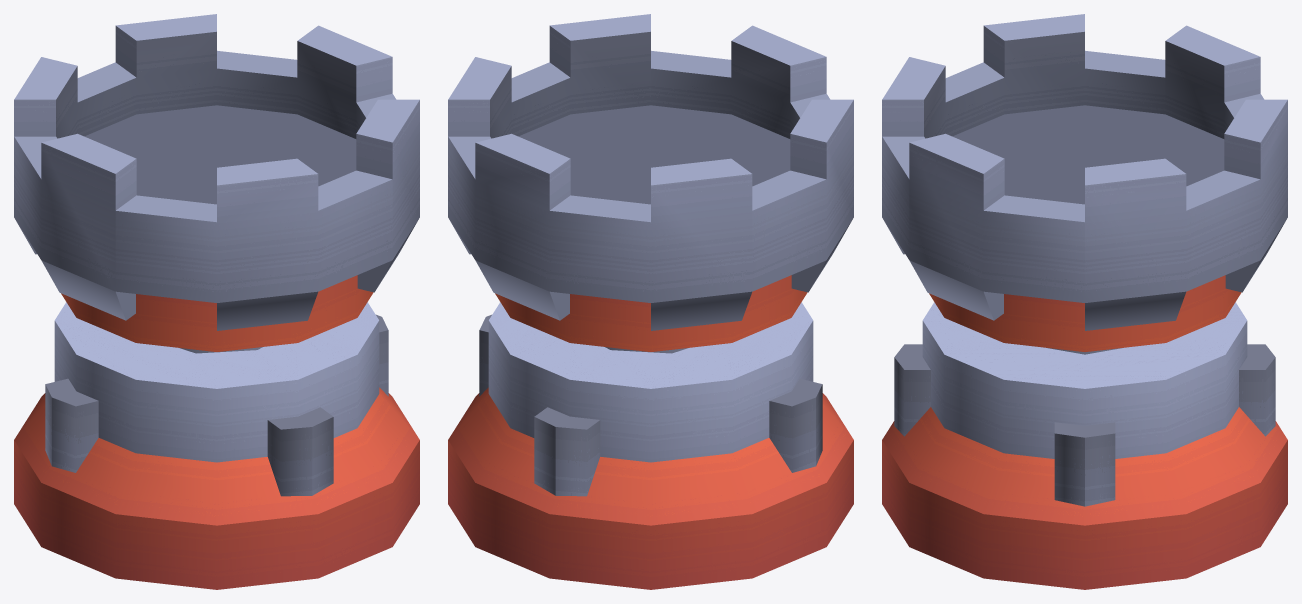
The model's file is catapult_2.glb.
3 renders of one model, left to right at view 1: azimuth 30°, elevation 25°; view 2: azimuth 150°, elevation 25°; view 3: azimuth 270°, elevation 25°, orthographic.
Visible parts, largest first — view 1: catapult_2; view 2: catapult_2; view 3: catapult_2.
Boxes of the visible parts, x1,y1,x2,y2 form: catapult_2: (14,14,419,589); catapult_2: (448,14,853,589); catapult_2: (882,14,1287,589).
Bounding box in the file's own units: 1 × 1.1 × 1.
2 materials, 2 textured.
